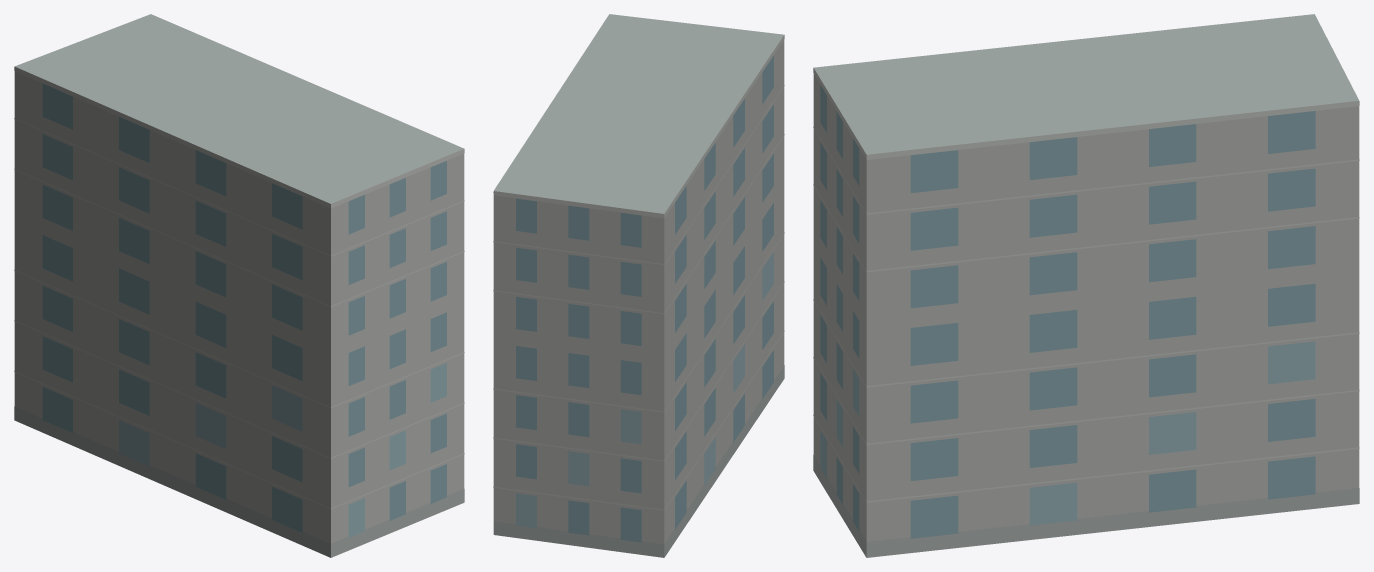
File: survey-upis-32649308.glb
3 views of the same model, side by side, from view 1: azimuth 30°, elevation 25°; view 2: azimuth 150°, elevation 25°; view 3: azimuth 270°, elevation 25° (orthographic). The views are drawn at different scales.
Visible parts, largest first — view 1: survey-upis-32649308.tmp; view 2: survey-upis-32649308.tmp; view 3: survey-upis-32649308.tmp.
Part boxes in pixels (left/top/right/bottom): survey-upis-32649308.tmp: left=14, top=14, right=464, bottom=557; survey-upis-32649308.tmp: left=493, top=14, right=784, bottom=557; survey-upis-32649308.tmp: left=813, top=14, right=1359, bottom=557.
Size of the model in its own units: 13.88 by 18.5 by 22.73.
